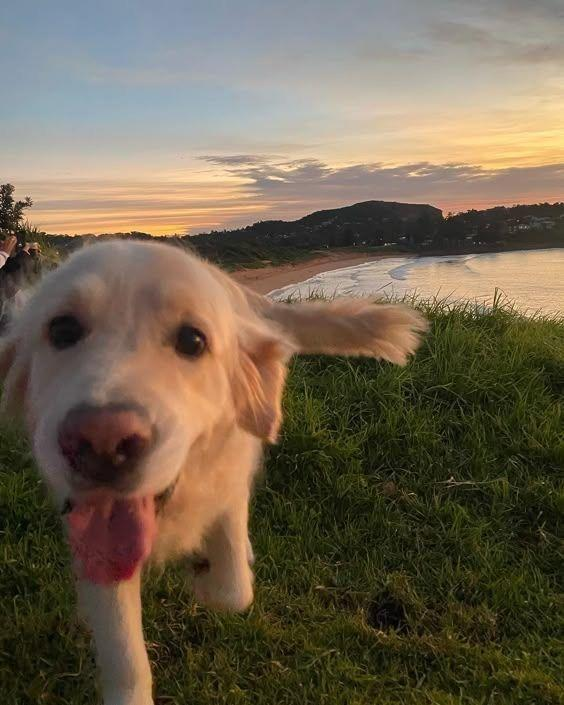adult_dog: (0, 235, 428, 705)
